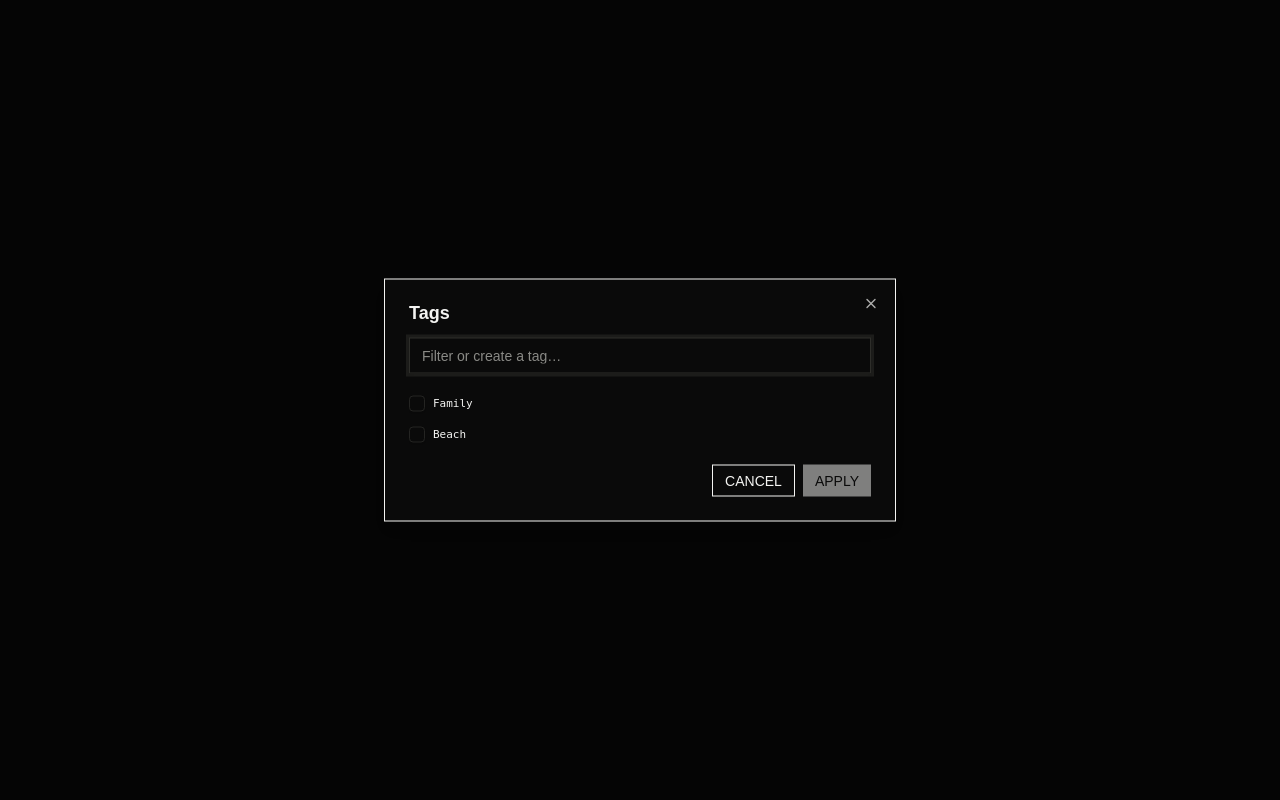
Scenario: filters tags case-insensitively
Expected: the text "Family" is shown, [433,396,473,412]
Type "fam" into the field with placeholder "Filter or create a tag…" at [640, 356], box [409,338,871,374]
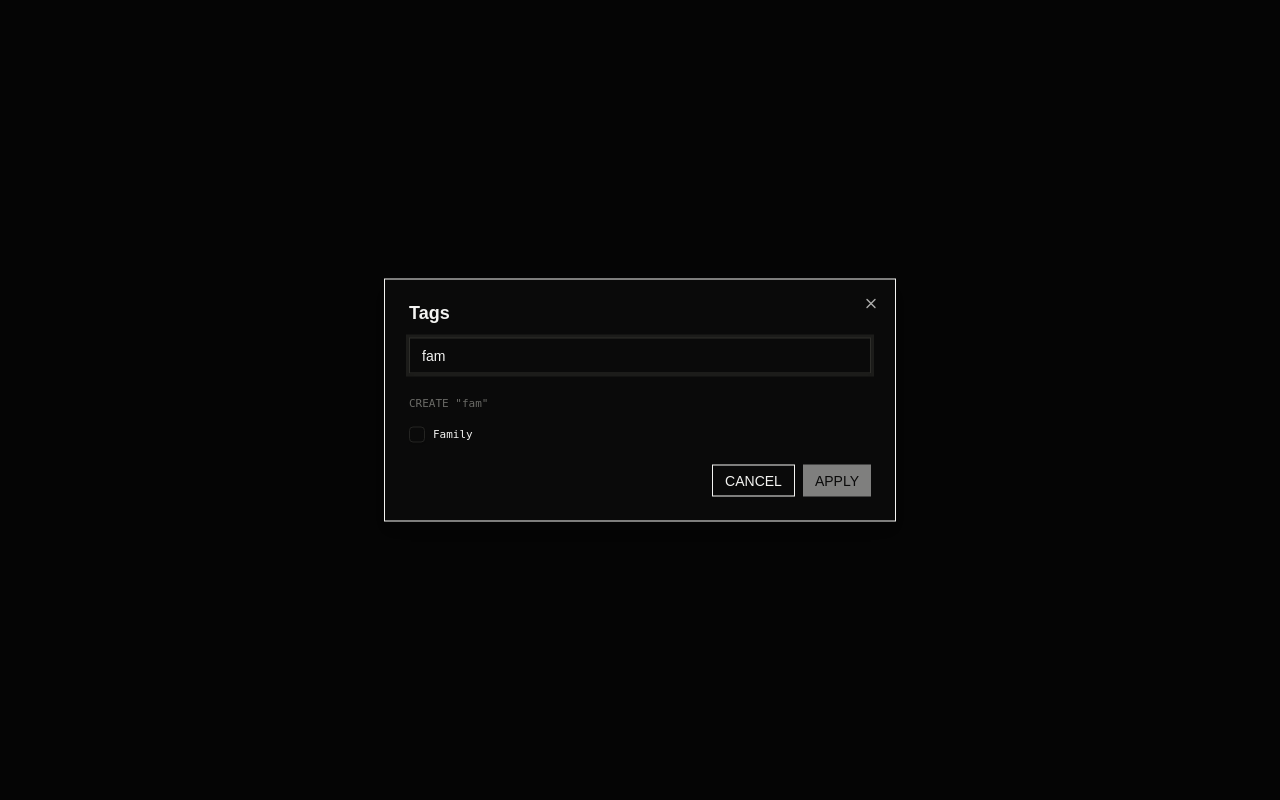
Expected: the text "Family" is shown, [433,426,473,442]
Expected: the text "Beach" is gone
